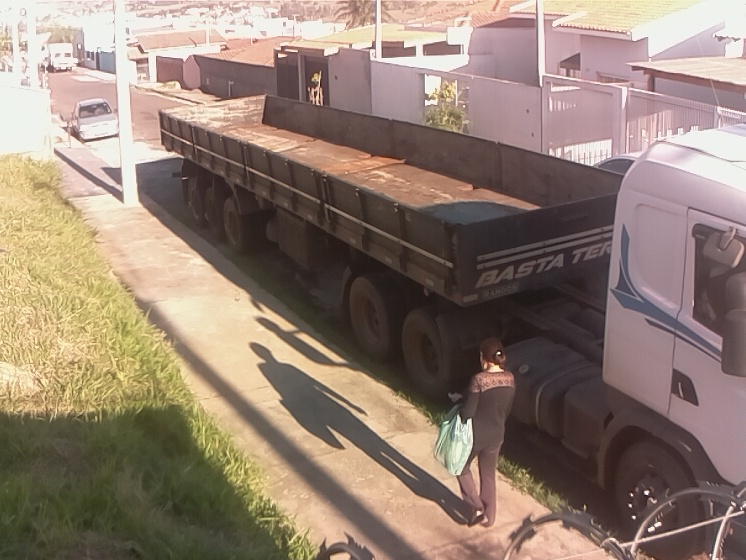person: (447, 335, 518, 529)
